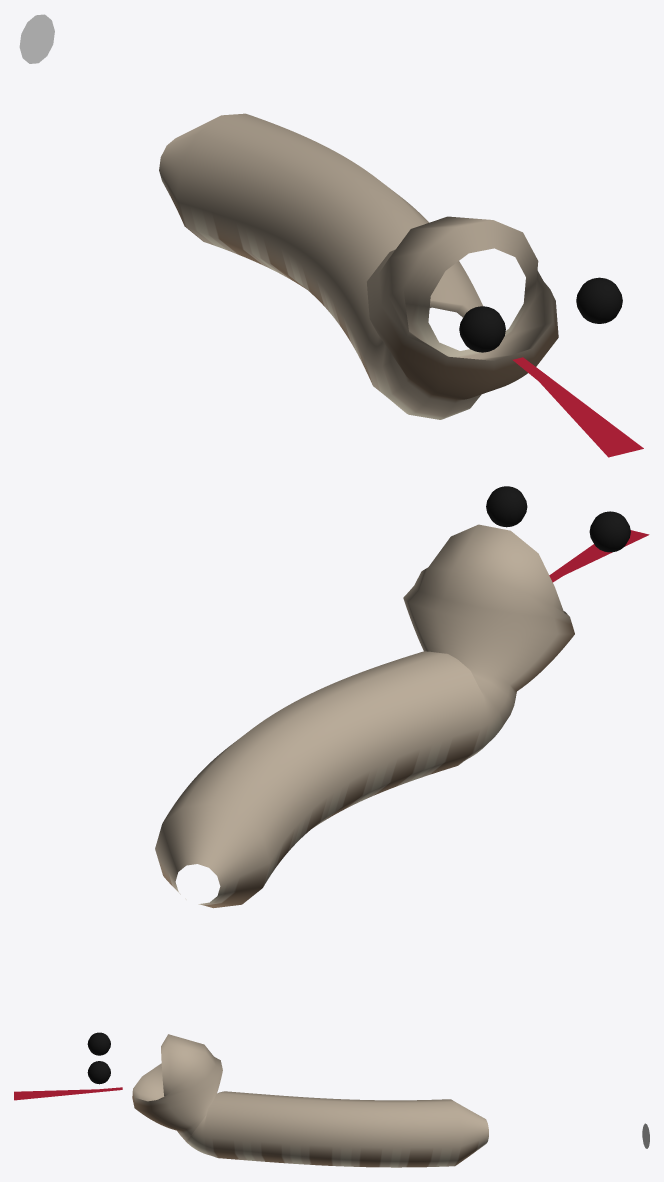
File: verrugosa.glb
3 renders of one model, top to bottom at view 1: azimuth 30°, elevation 25°; view 2: azimuth 150°, elevation 25°; view 3: azimuth 270°, elevation 25°, orthographic. The views are drawn at different scales.
Size of the model in its own units: 0.4497 by 0.4946 by 2.45.
